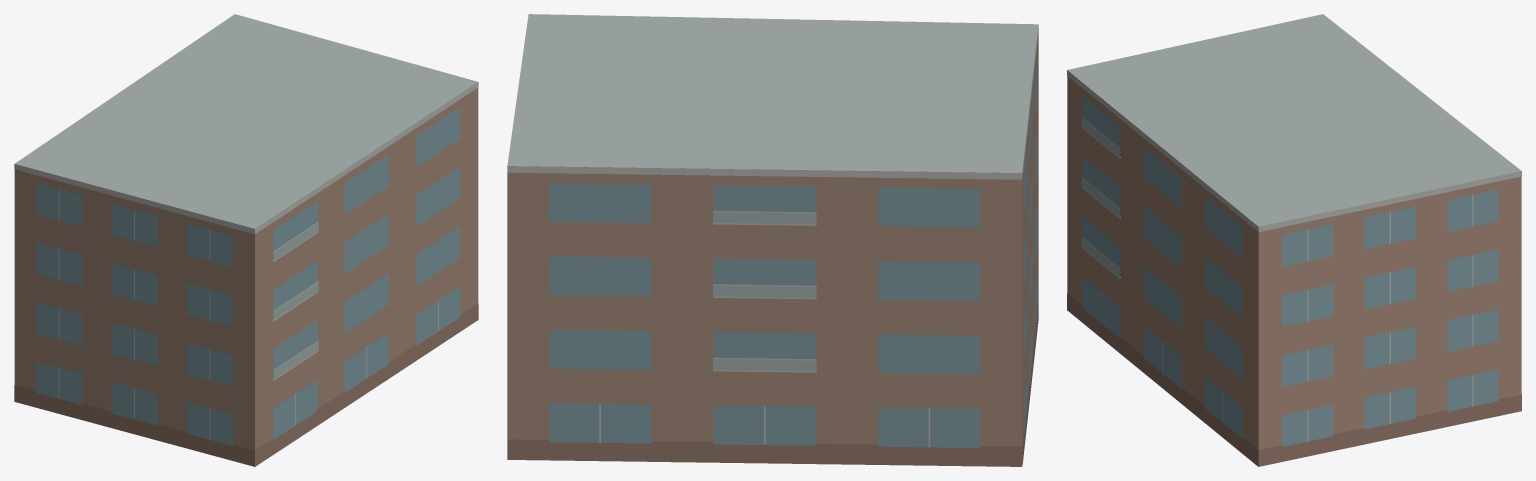
Rendered from survey-upis-32906179.glb.
3 views of the same model, side by side, from view 1: azimuth 30°, elevation 25°; view 2: azimuth 150°, elevation 25°; view 3: azimuth 270°, elevation 25° (orthographic). The views are drawn at different scales.
Visible parts, largest first — view 1: survey-upis-32906179.tmp; view 2: survey-upis-32906179.tmp; view 3: survey-upis-32906179.tmp.
Part boxes in pixels (left/top/right/bottom): survey-upis-32906179.tmp: left=14, top=14, right=478, bottom=466; survey-upis-32906179.tmp: left=507, top=14, right=1038, bottom=466; survey-upis-32906179.tmp: left=1067, top=14, right=1521, bottom=466.
Size of the model in its own units: 20.34 by 10.7 by 18.37.
